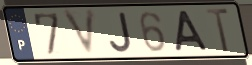6: (137, 10, 168, 54)
7: (32, 11, 62, 57)
A: (174, 9, 210, 53)
J: (108, 11, 135, 55)
T: (204, 7, 232, 55)
V: (60, 7, 98, 59)
